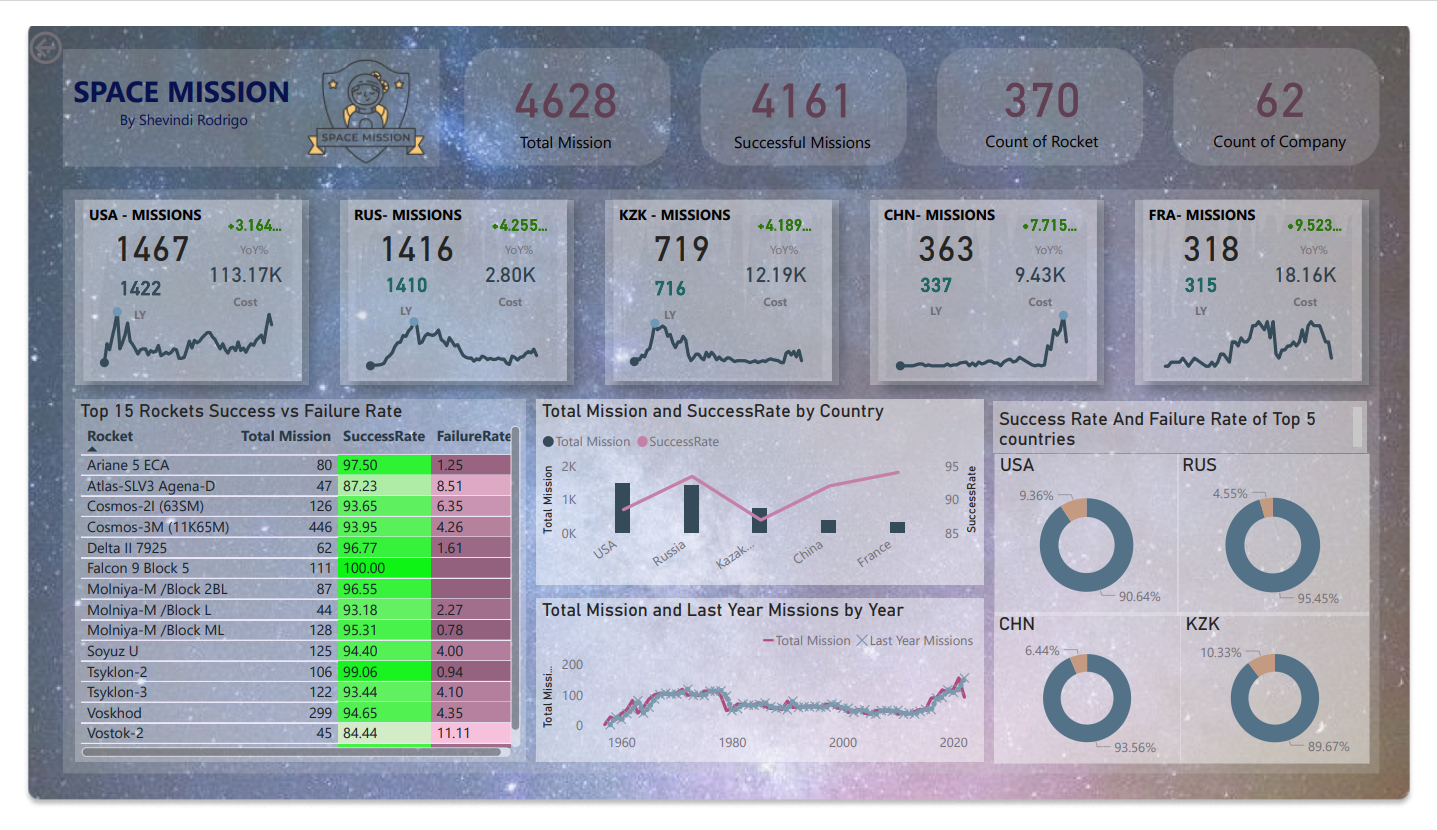

What the dashboard file says about the page in this screenshot:
{"tool":"powerbi","page":{"name":"Page 1","canvas":[1280,720],"ordinal":0},"visuals":[{"type":"card","fields":{"Values":["FactMission.Total Mission"]},"box":[401.7,19.3,194.2,108.6],"z":0},{"type":"areaChart","fields":{"Category":["dimDate.Date.Variation.Date Hierarchy.Year"],"Y":["FactMission.SuccessRate"]},"box":[47.1,160.4,215,170],"z":0,"group":"g5"},{"type":"areaChart","fields":{"Category":["dimDate.Date.Variation.Date Hierarchy.Year"],"Y":["FactMission.SuccessRate"]},"box":[291.2,160.4,215,170],"z":0,"group":"g6"},{"type":"areaChart","fields":{"Category":["dimDate.Date.Variation.Date Hierarchy.Year"],"Y":["FactMission.SuccessRate"]},"box":[535,160.4,215,170],"z":0,"group":"g7"},{"type":"areaChart","fields":{"Category":["dimDate.Date.Variation.Date Hierarchy.Year"],"Y":["FactMission.SuccessRate"]},"box":[778.8,160.4,215,170],"z":0,"group":"g9"},{"type":"areaChart","fields":{"Category":["dimDate.Date.Variation.Date Hierarchy.Year"],"Y":["FactMission.SuccessRate"]},"box":[1022.9,160.4,215,170],"z":0,"group":"g10"},{"type":"group","id":"g1","title":"Group 1","box":[892.9,393.4,346.2,285],"z":0,"group":"g12"},{"type":"donutChart","title":"USA","fields":{"Y":["FactMission.SuccessRate","FactMission.FailureRate"]},"box":[894.3,393.5,168.6,148.9],"z":0,"group":"g1"},{"type":"card","fields":{"Values":["FactMission.Successful Missions"]},"box":[621.3,19.3,191.8,108.6],"z":1000},{"type":"textbox","box":[55,160.6,200.7,167.1],"z":1000,"group":"g5"},{"type":"textbox","box":[299.1,160.6,200.7,167.1],"z":1000,"group":"g6"},{"type":"textbox","box":[542.9,160.6,200.7,167.1],"z":1000,"group":"g7"},{"type":"textbox","box":[786.7,160.6,200.7,167.1],"z":1000,"group":"g9"},{"type":"textbox","box":[1030.8,160.6,200.7,167.1],"z":1000,"group":"g10"},{"type":"textbox","box":[892.9,345.7,344.3,47.1],"z":1000,"group":"g12"},{"type":"donutChart","title":"RUS","fields":{"Y":["FactMission.SuccessRate","FactMission.FailureRate"]},"box":[1062.4,393.4,175.7,148.9],"z":1000,"group":"g1"},{"type":"card","fields":{"Values":["Count(dimCompany.Company)"]},"box":[1060.5,19.3,193,107.4],"z":2000},{"type":"donutChart","title":"CHN","fields":{"Y":["FactMission.SuccessRate","FactMission.FailureRate"]},"box":[892.9,539.6,171.7,138.8],"z":2000,"group":"g1"},{"type":"card","fields":{"Values":["Count(dimRocket.Rocket)"]},"box":[840.9,19.3,193,107.4],"z":3000},{"type":"donutChart","title":"KZK","fields":{"Y":["FactMission.SuccessRate","FactMission.FailureRate"]},"box":[1064.6,539.6,174.5,138.8],"z":3000,"group":"g1"},{"type":"textbox","box":[24.1,19.3,249.7,107.4],"z":4000},{"type":"group","id":"g2","title":"Group 2","box":[47.1,160.4,215.7,171.4],"z":5000},{"type":"group","id":"g3","title":"Group 2","box":[535,160.4,215.4,171.5],"z":6000},{"type":"group","id":"g4","title":"Group 2","box":[291.2,160.4,215.4,170.2],"z":7000},{"type":"group","id":"g5","title":"Group 1","box":[47.1,160.4,215,170],"z":8000,"group":"g2"},{"type":"group","id":"g6","title":"Group 1","box":[291.2,160.4,215,170],"z":8000,"group":"g4"},{"type":"group","id":"g7","title":"Group 1","box":[535,160.4,215,170],"z":8000,"group":"g3"},{"type":"group","id":"g8","title":"Group 2","box":[778.8,160.4,215.7,170],"z":8000},{"type":"group","id":"g9","title":"Group 1","box":[778.8,160.4,215,170],"z":8000,"group":"g8"},{"type":"group","id":"g10","title":"Group 1","box":[1022.9,160.4,215,170],"z":8000,"group":"g11"},{"type":"card","fields":{"Values":["FactMission.Total Mission"]},"box":[59.5,183.4,116.6,38.4],"z":8000,"group":"g5"},{"type":"card","fields":{"Values":["FactMission.Total Mission"]},"box":[303.6,183.4,116.6,38.4],"z":8000,"group":"g6"},{"type":"card","fields":{"Values":["FactMission.Total Mission"]},"box":[547.4,183.4,116.6,38.4],"z":8000,"group":"g7"},{"type":"card","fields":{"Values":["FactMission.Total Mission"]},"box":[791.2,183.4,116.6,38.4],"z":8000,"group":"g9"},{"type":"card","fields":{"Values":["FactMission.Total Mission"]},"box":[1035.3,183.4,116.6,38.4],"z":8000,"group":"g10"},{"type":"group","id":"g11","title":"Group 2","box":[1022.9,160.4,215.7,170],"z":9000},{"type":"actionButton","box":[0,0,100,40],"z":10000},{"type":"card","fields":{"Values":["FactMission.Mission_Cost"]},"box":[154.2,209.5,100.2,53.5],"z":10000,"group":"g5"},{"type":"card","fields":{"Values":["FactMission.Mission_Cost"]},"box":[398.3,209.5,100.2,53.5],"z":10000,"group":"g6"},{"type":"card","fields":{"Values":["FactMission.Mission_Cost"]},"box":[642.1,209.5,100.2,53.5],"z":10000,"group":"g7"},{"type":"card","fields":{"Values":["FactMission.Mission_Cost"]},"box":[885.9,209.5,100.2,53.5],"z":10000,"group":"g9"},{"type":"card","fields":{"Values":["FactMission.Mission_Cost"]},"box":[1130,209.5,100.2,53.5],"z":10000,"group":"g10"},{"type":"card","fields":{"Values":["FactMission.Total Mission YoY%"]},"box":[180.9,167.7,62.4,47.9],"z":11000,"group":"g5"},{"type":"card","fields":{"Values":["FactMission.Total Mission YoY%"]},"box":[425,167.7,62.4,47.9],"z":11000,"group":"g6"},{"type":"card","fields":{"Values":["FactMission.Total Mission YoY%"]},"box":[668.8,167.7,62.4,47.9],"z":11000,"group":"g7"},{"type":"card","fields":{"Values":["FactMission.Total Mission YoY%"]},"box":[912.6,167.7,62.4,47.9],"z":11000,"group":"g9"},{"type":"card","fields":{"Values":["FactMission.Total Mission YoY%"]},"box":[1156.7,167.7,62.4,47.9],"z":11000,"group":"g10"},{"type":"lineChart","fields":{"Y":["FactMission.Total Mission","DateTable.LY Missions"],"Category":["dimDate.Date.Variation.Date Hierarchy.Year"]},"box":[472,526.9,411.7,150.9],"z":11000},{"type":"card","fields":{"Values":["FactMission.Cumulative Upto Previous Year"]},"box":[59.5,223.2,96.1,50.8],"z":12000,"group":"g5"},{"type":"card","fields":{"Values":["FactMission.Cumulative Upto Previous Year"]},"box":[547.4,223.2,96.1,50.8],"z":12000,"group":"g7"},{"type":"lineClusteredColumnComboChart","fields":{"Category":["dimLocation.Country"],"Y":["FactMission.Total Mission"],"Y2":["FactMission.SuccessRate"]},"box":[472,344.4,411.7,170.2],"z":12000},{"type":"lineChart","fields":{"Category":["dimDate.Date.Variation.Date Hierarchy.Year"],"Y":["Table.Total Mission - USA"]},"box":[59.5,245,183.9,75.7],"z":13000,"group":"g5"},{"type":"lineChart","fields":{"Category":["dimDate.Date.Variation.Date Hierarchy.Year"],"Y":["Table.Total Mission - KZK"]},"box":[547.4,245,183.9,75.7],"z":13000,"group":"g7"},{"type":"lineChart","fields":{"Y":["Table.Total Mission - RUS"],"Category":["dimDate.Date.Variation.Date Hierarchy.Year"]},"box":[304.1,247.5,182.9,75.7],"z":13000,"group":"g6"},{"type":"lineChart","fields":{"Category":["dimDate.Date.Variation.Date Hierarchy.Year"],"Y":["Table.Total Mission - CHN"]},"box":[791.7,247.5,182.9,75.7],"z":13000,"group":"g9"},{"type":"lineChart","fields":{"Category":["dimDate.Date.Variation.Date Hierarchy.Year"],"Y":["Table.Total Mission - FRA"]},"box":[1035.8,247.5,182.9,75.7],"z":13000,"group":"g10"},{"type":"tableEx","title":"Top 15 Rockets Success vs Failure Rate","fields":{"Values":["dimRocket.Rocket","FactMission.Total Mission","FactMission.SuccessRate","FactMission.FailureRate"]},"box":[46.7,344.4,415,333.4],"z":13000},{"type":"card","fields":{"Values":["FactMission.Cumulative Upto Previous Year"]},"box":[304.1,220.4,95.7,51.4],"z":13500,"group":"g6"},{"type":"card","fields":{"Values":["FactMission.Cumulative Upto Previous Year"]},"box":[791.7,220.4,95.7,51.4],"z":13500,"group":"g9"},{"type":"card","fields":{"Values":["FactMission.Cumulative Upto Previous Year"]},"box":[1035.8,220.4,95.7,51.4],"z":13500,"group":"g10"},{"type":"group","id":"g12","title":"Group 2","box":[892.9,345.7,345.7,332.9],"z":14001}]}

Visuals, with their boxes in screenshot pixels (x1, y1, x2, y2), scaled from the page's 1280x720 canvas onto the 1437x830 screenshot:
card - FactMission.Total Mission: [x1=451, y1=22, x2=669, y2=147]
areaChart - dimDate.Date.Variation.Date Hierarchy.Year x FactMission.SuccessRate: [x1=53, y1=185, x2=294, y2=381]
areaChart - dimDate.Date.Variation.Date Hierarchy.Year x FactMission.SuccessRate: [x1=327, y1=185, x2=568, y2=381]
areaChart - dimDate.Date.Variation.Date Hierarchy.Year x FactMission.SuccessRate: [x1=601, y1=185, x2=842, y2=381]
areaChart - dimDate.Date.Variation.Date Hierarchy.Year x FactMission.SuccessRate: [x1=874, y1=185, x2=1116, y2=381]
areaChart - dimDate.Date.Variation.Date Hierarchy.Year x FactMission.SuccessRate: [x1=1148, y1=185, x2=1390, y2=381]
"Group 1" group: [x1=1002, y1=454, x2=1391, y2=782]
"USA" donutChart: [x1=1004, y1=454, x2=1193, y2=625]
card - FactMission.Successful Missions: [x1=698, y1=22, x2=913, y2=147]
textbox: [x1=62, y1=185, x2=287, y2=378]
textbox: [x1=336, y1=185, x2=561, y2=378]
textbox: [x1=609, y1=185, x2=835, y2=378]
textbox: [x1=883, y1=185, x2=1109, y2=378]
textbox: [x1=1157, y1=185, x2=1383, y2=378]
textbox: [x1=1002, y1=399, x2=1389, y2=453]
"RUS" donutChart: [x1=1193, y1=454, x2=1390, y2=625]
card - Count(dimCompany.Company): [x1=1191, y1=22, x2=1407, y2=146]
"CHN" donutChart: [x1=1002, y1=622, x2=1195, y2=782]
card - Count(dimRocket.Rocket): [x1=944, y1=22, x2=1161, y2=146]
"KZK" donutChart: [x1=1195, y1=622, x2=1391, y2=782]
textbox: [x1=27, y1=22, x2=307, y2=146]
"Group 2" group: [x1=53, y1=185, x2=295, y2=382]
"Group 2" group: [x1=601, y1=185, x2=842, y2=383]
"Group 2" group: [x1=327, y1=185, x2=569, y2=381]
"Group 1" group: [x1=53, y1=185, x2=294, y2=381]
"Group 1" group: [x1=327, y1=185, x2=568, y2=381]
"Group 1" group: [x1=601, y1=185, x2=842, y2=381]
"Group 2" group: [x1=874, y1=185, x2=1116, y2=381]
"Group 1" group: [x1=874, y1=185, x2=1116, y2=381]
"Group 1" group: [x1=1148, y1=185, x2=1390, y2=381]
card - FactMission.Total Mission: [x1=67, y1=211, x2=198, y2=256]
card - FactMission.Total Mission: [x1=341, y1=211, x2=472, y2=256]
card - FactMission.Total Mission: [x1=615, y1=211, x2=745, y2=256]
card - FactMission.Total Mission: [x1=888, y1=211, x2=1019, y2=256]
card - FactMission.Total Mission: [x1=1162, y1=211, x2=1293, y2=256]
"Group 2" group: [x1=1148, y1=185, x2=1391, y2=381]
actionButton: [x1=0, y1=0, x2=112, y2=46]
card - FactMission.Mission_Cost: [x1=173, y1=242, x2=286, y2=303]
card - FactMission.Mission_Cost: [x1=447, y1=242, x2=560, y2=303]
card - FactMission.Mission_Cost: [x1=721, y1=242, x2=833, y2=303]
card - FactMission.Mission_Cost: [x1=995, y1=242, x2=1107, y2=303]
card - FactMission.Mission_Cost: [x1=1269, y1=242, x2=1381, y2=303]
card - FactMission.Total Mission YoY%: [x1=203, y1=193, x2=273, y2=249]
card - FactMission.Total Mission YoY%: [x1=477, y1=193, x2=547, y2=249]
card - FactMission.Total Mission YoY%: [x1=751, y1=193, x2=821, y2=249]
card - FactMission.Total Mission YoY%: [x1=1025, y1=193, x2=1095, y2=249]
card - FactMission.Total Mission YoY%: [x1=1299, y1=193, x2=1369, y2=249]
lineChart - FactMission.Total Mission x DateTable.LY Missions: [x1=530, y1=607, x2=992, y2=781]
card - FactMission.Cumulative Upto Previous Year: [x1=67, y1=257, x2=175, y2=316]
card - FactMission.Cumulative Upto Previous Year: [x1=615, y1=257, x2=722, y2=316]
lineClusteredColumnComboChart - dimLocation.Country x FactMission.Total Mission: [x1=530, y1=397, x2=992, y2=593]
lineChart - dimDate.Date.Variation.Date Hierarchy.Year x Table.Total Mission - USA: [x1=67, y1=282, x2=273, y2=370]
lineChart - dimDate.Date.Variation.Date Hierarchy.Year x Table.Total Mission - KZK: [x1=615, y1=282, x2=821, y2=370]
lineChart - Table.Total Mission - RUS x dimDate.Date.Variation.Date Hierarchy.Year: [x1=341, y1=285, x2=547, y2=373]
lineChart - dimDate.Date.Variation.Date Hierarchy.Year x Table.Total Mission - CHN: [x1=889, y1=285, x2=1094, y2=373]
lineChart - dimDate.Date.Variation.Date Hierarchy.Year x Table.Total Mission - FRA: [x1=1163, y1=285, x2=1368, y2=373]
"Top 15 Rockets Success vs Failure Rate" tableEx: [x1=52, y1=397, x2=518, y2=781]
card - FactMission.Cumulative Upto Previous Year: [x1=341, y1=254, x2=449, y2=313]
card - FactMission.Cumulative Upto Previous Year: [x1=889, y1=254, x2=996, y2=313]
card - FactMission.Cumulative Upto Previous Year: [x1=1163, y1=254, x2=1270, y2=313]
"Group 2" group: [x1=1002, y1=399, x2=1391, y2=782]
